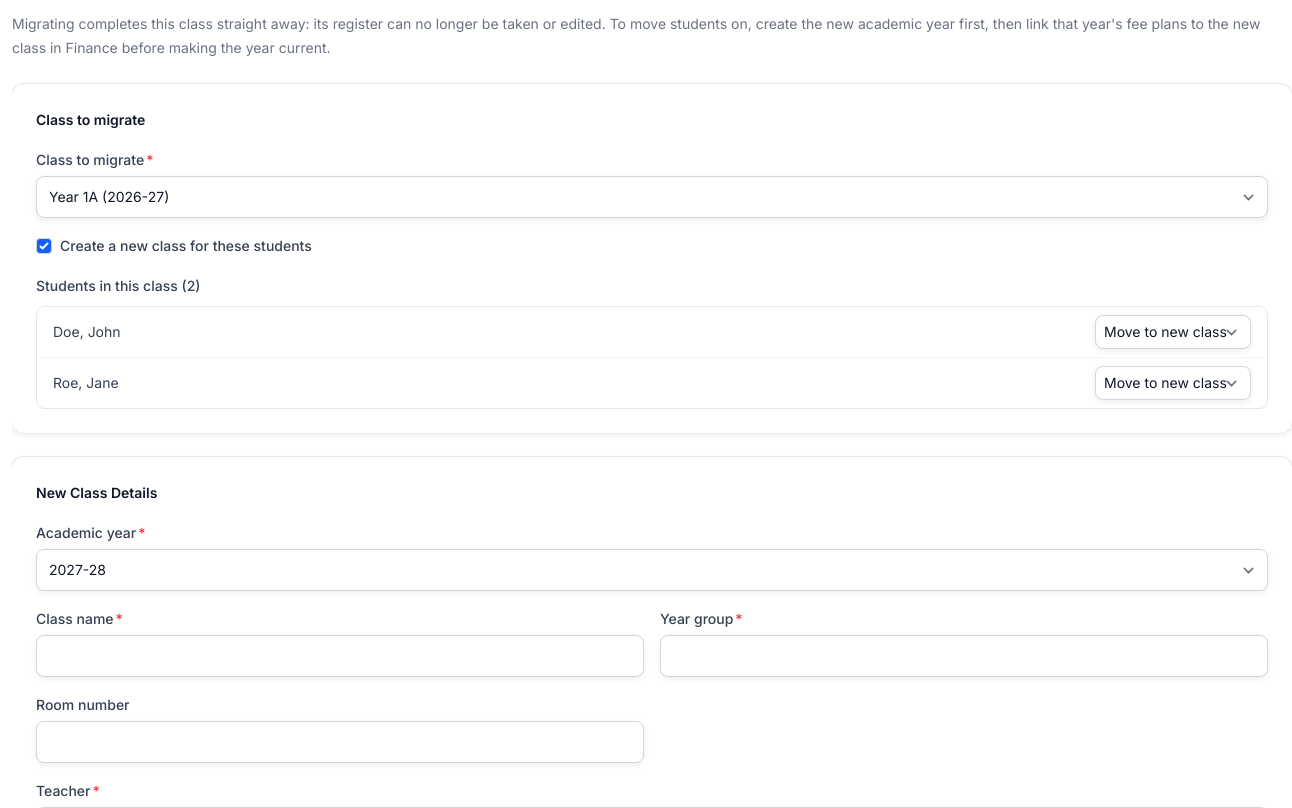
Test: ClassMigrationForm › hides the new-class fields when the checkbox is unticked
The width and height of the screenshot is (1292, 808).
Click the checkbox labelled "Create a new class for these students" at (44, 246), box [36,238,52,254]
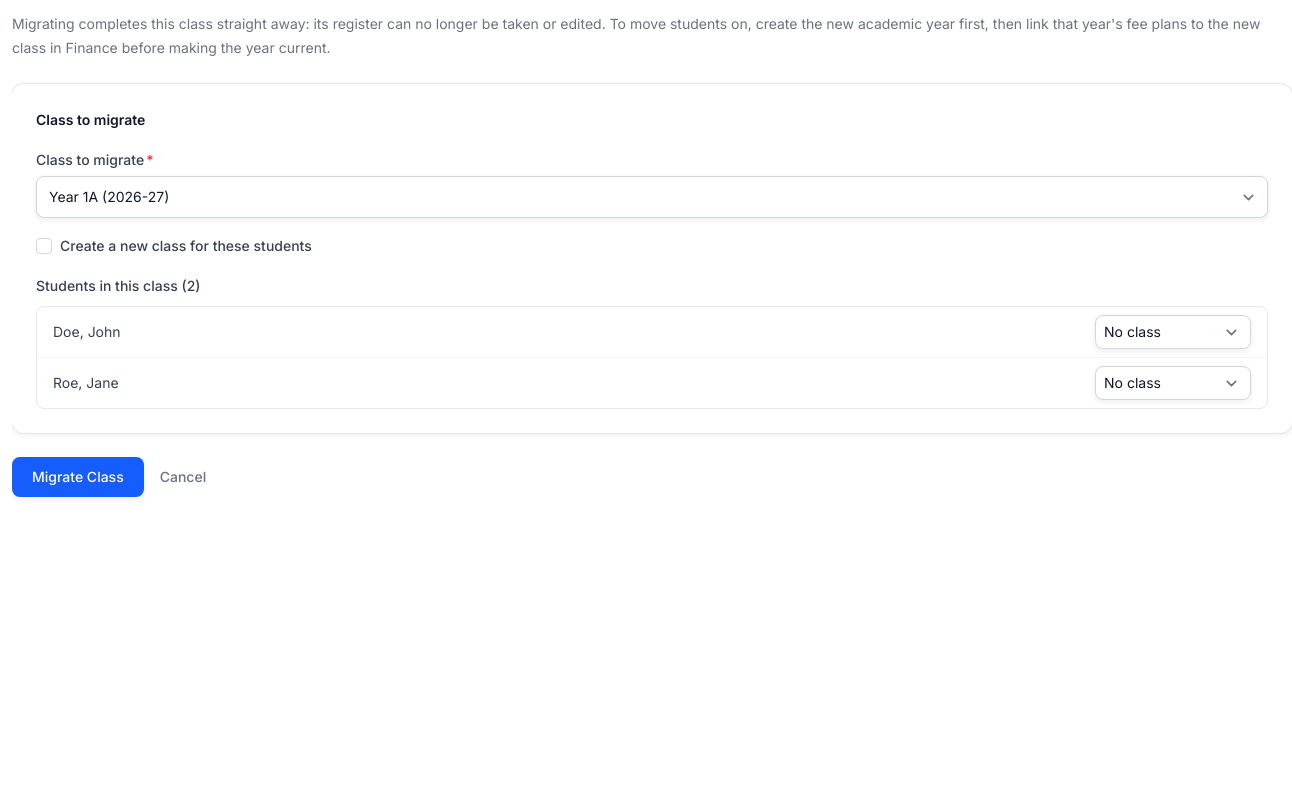
Now the label labelled "Class name" is gone
Now the label labelled "Year group" is gone
Now the label labelled "Teacher" is gone
